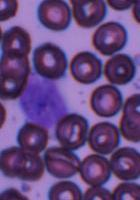M: (18, 72, 70, 128)
